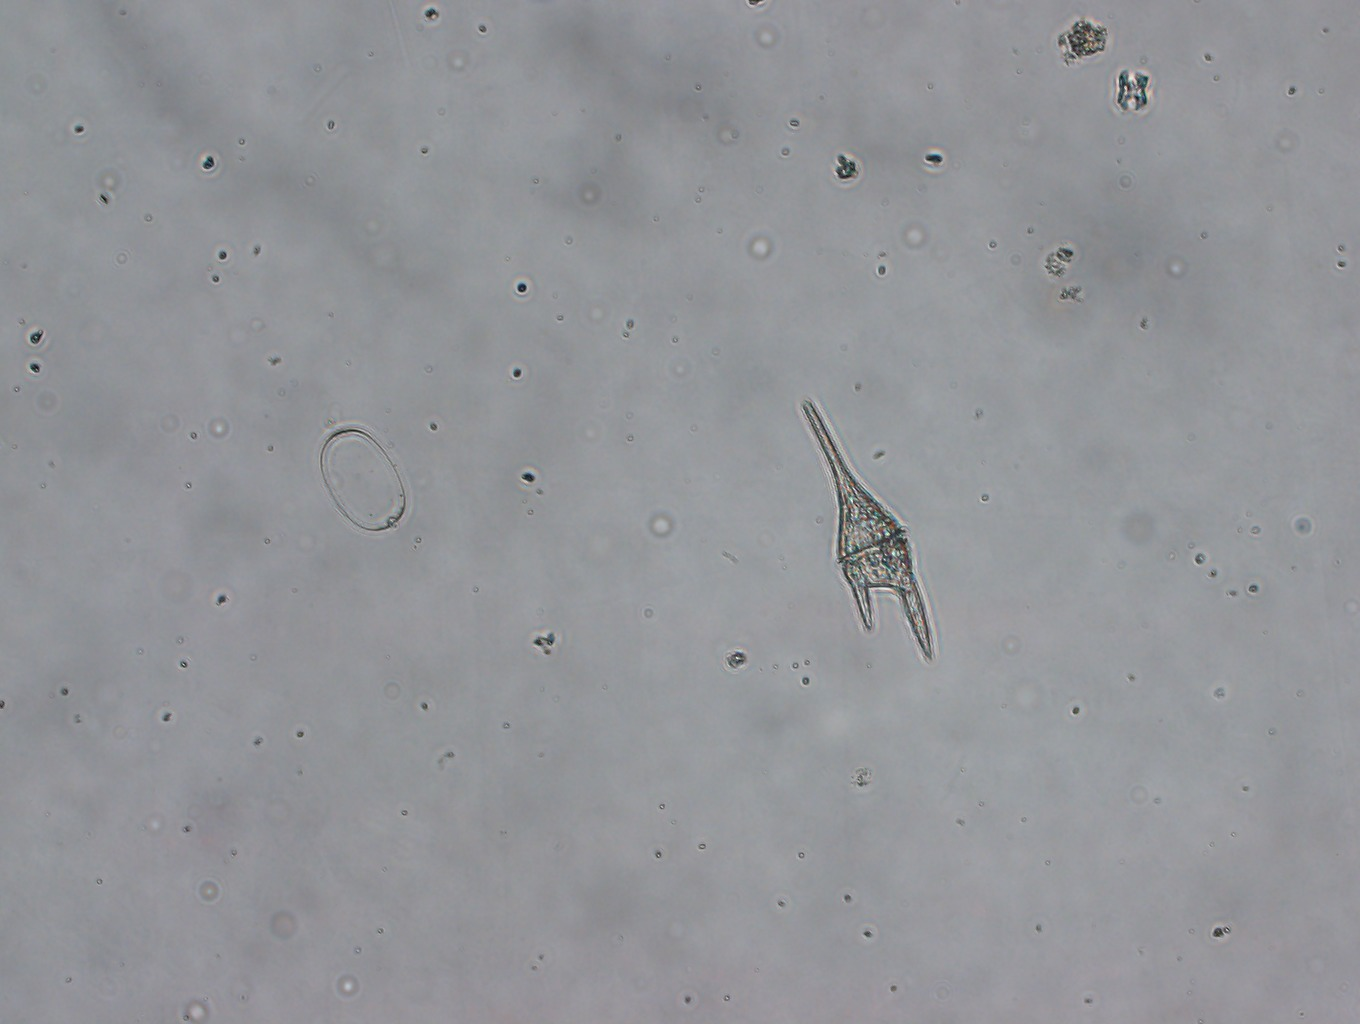ceratium furca: (791, 394, 942, 670)
